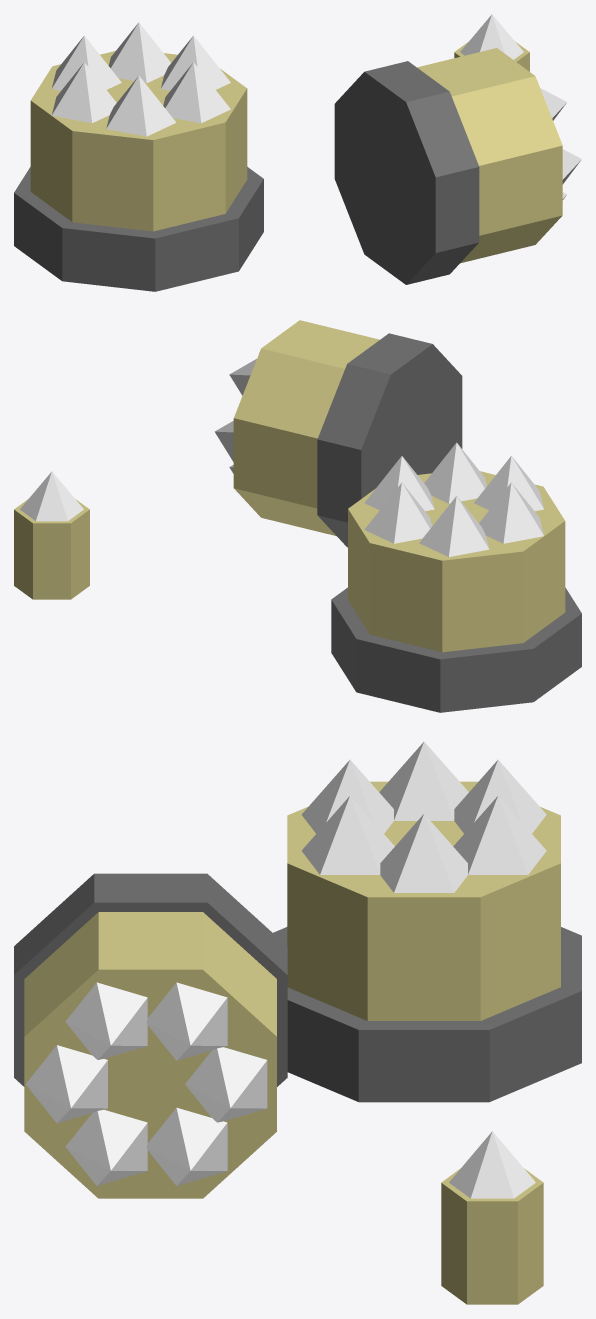
The model's file is ce_ammo_revolver_ap_b.obj.
3 renders of one model, top to bottom at view 1: azimuth 30°, elevation 25°; view 2: azimuth 150°, elevation 25°; view 3: azimuth 270°, elevation 25°, orthographic. The views are drawn at different scales.
Visible parts, largest first — view 1: ce_ammo_revolver_ap_b_8, ce_ammo_revolver_ap_b_1, ce_ammo_revolver_ap_b_9, ce_ammo_revolver_ap_b_0, ce_ammo_revolver_ap_b_6, ce_ammo_revolver_ap_b_5, ce_ammo_revolver_ap_b_7, ce_ammo_revolver_ap_b_3, ce_ammo_revolver_ap_b_4, ce_ammo_revolver_ap_b_2, ce_ammo_revolver_ap_b_17, ce_ammo_revolver_ap_b_13 (+1 smaller); view 2: ce_ammo_revolver_ap_b_1, ce_ammo_revolver_ap_b_8, ce_ammo_revolver_ap_b_9, ce_ammo_revolver_ap_b_0, ce_ammo_revolver_ap_b_16, ce_ammo_revolver_ap_b_4, ce_ammo_revolver_ap_b_5, ce_ammo_revolver_ap_b_3, ce_ammo_revolver_ap_b_7, ce_ammo_revolver_ap_b_17, ce_ammo_revolver_ap_b_6, ce_ammo_revolver_ap_b_2; view 3: ce_ammo_revolver_ap_b_1, ce_ammo_revolver_ap_b_9, ce_ammo_revolver_ap_b_0, ce_ammo_revolver_ap_b_8, ce_ammo_revolver_ap_b_16, ce_ammo_revolver_ap_b_2, ce_ammo_revolver_ap_b_11, ce_ammo_revolver_ap_b_15, ce_ammo_revolver_ap_b_10, ce_ammo_revolver_ap_b_12, ce_ammo_revolver_ap_b_14, ce_ammo_revolver_ap_b_13 (+6 smaller).
Part boxes in pixels (<box>): ce_ammo_revolver_ap_b_8: <box>334,61,479,284</box>; ce_ammo_revolver_ap_b_1: <box>30,51,247,231</box>; ce_ammo_revolver_ap_b_9: <box>417,48,562,263</box>; ce_ammo_revolver_ap_b_0: <box>14,167,263,291</box>; ce_ammo_revolver_ap_b_6: <box>106,76,176,136</box>; ce_ammo_revolver_ap_b_5: <box>51,62,116,123</box>; ce_ammo_revolver_ap_b_7: <box>163,62,230,123</box>; ce_ammo_revolver_ap_b_3: <box>108,22,170,83</box>; ce_ammo_revolver_ap_b_4: <box>51,35,121,90</box>; ce_ammo_revolver_ap_b_2: <box>161,35,230,90</box>; ce_ammo_revolver_ap_b_17: <box>460,14,523,59</box>; ce_ammo_revolver_ap_b_13: <box>562,149,581,184</box>; ce_ammo_revolver_ap_b_1: <box>348,471,565,652</box>; ce_ammo_revolver_ap_b_8: <box>317,333,462,547</box>; ce_ammo_revolver_ap_b_9: <box>233,320,379,535</box>; ce_ammo_revolver_ap_b_0: <box>331,587,581,712</box>; ce_ammo_revolver_ap_b_16: <box>14,499,89,599</box>; ce_ammo_revolver_ap_b_4: <box>419,496,489,556</box>; ce_ammo_revolver_ap_b_5: <box>479,482,543,543</box>; ce_ammo_revolver_ap_b_3: <box>364,482,432,543</box>; ce_ammo_revolver_ap_b_7: <box>424,442,486,503</box>; ce_ammo_revolver_ap_b_17: <box>20,471,83,521</box>; ce_ammo_revolver_ap_b_6: <box>474,456,543,510</box>; ce_ammo_revolver_ap_b_2: <box>364,456,434,511</box>; ce_ammo_revolver_ap_b_1: <box>287,781,560,1020</box>; ce_ammo_revolver_ap_b_9: <box>24,912,276,1198</box>; ce_ammo_revolver_ap_b_0: <box>273,927,581,1102</box>; ce_ammo_revolver_ap_b_8: <box>14,873,287,1086</box>; ce_ammo_revolver_ap_b_16: <box>441,1168,543,1304</box>; ce_ammo_revolver_ap_b_2: <box>380,814,467,892</box>; ce_ammo_revolver_ap_b_11: <box>146,982,227,1060</box>; ce_ammo_revolver_ap_b_15: <box>146,1107,227,1185</box>; ce_ammo_revolver_ap_b_10: <box>185,1047,267,1122</box>; ce_ammo_revolver_ap_b_12: <box>65,982,147,1059</box>; ce_ammo_revolver_ap_b_14: <box>65,1109,147,1185</box>; ce_ammo_revolver_ap_b_13: <box>25,1045,107,1123</box>.
Size of the model in its own units: 0.6976 by 0.2501 by 0.4987.
